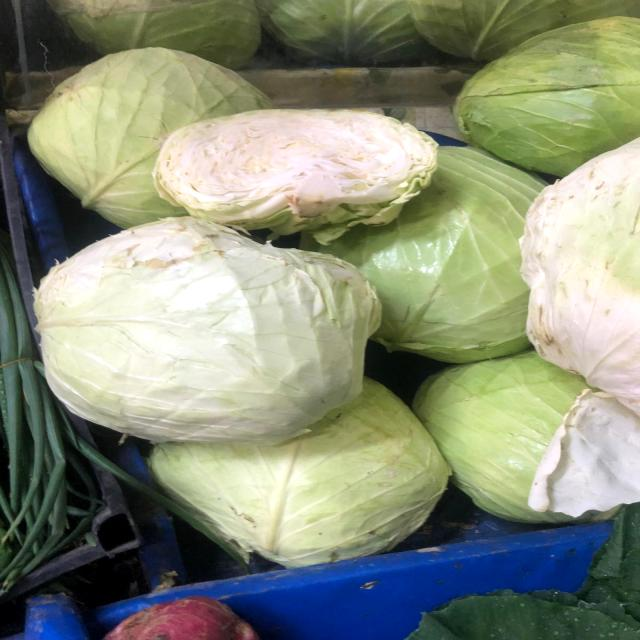cabbage: (29, 208, 390, 452), (149, 94, 448, 238)
